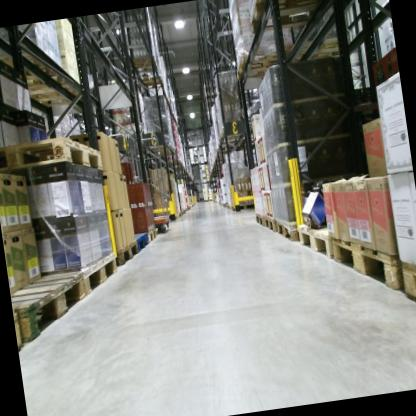pallet: (8, 266, 92, 348), (324, 224, 404, 309), (0, 130, 104, 186), (0, 76, 91, 119), (0, 44, 70, 94), (231, 41, 315, 82), (241, 0, 328, 37), (74, 250, 120, 298), (294, 33, 353, 68), (294, 217, 333, 264), (111, 238, 141, 270), (400, 254, 416, 314), (274, 216, 302, 246), (12, 303, 27, 350), (125, 54, 159, 74), (128, 227, 150, 254), (138, 74, 166, 90), (263, 212, 279, 237), (254, 208, 266, 232), (145, 225, 157, 242)
